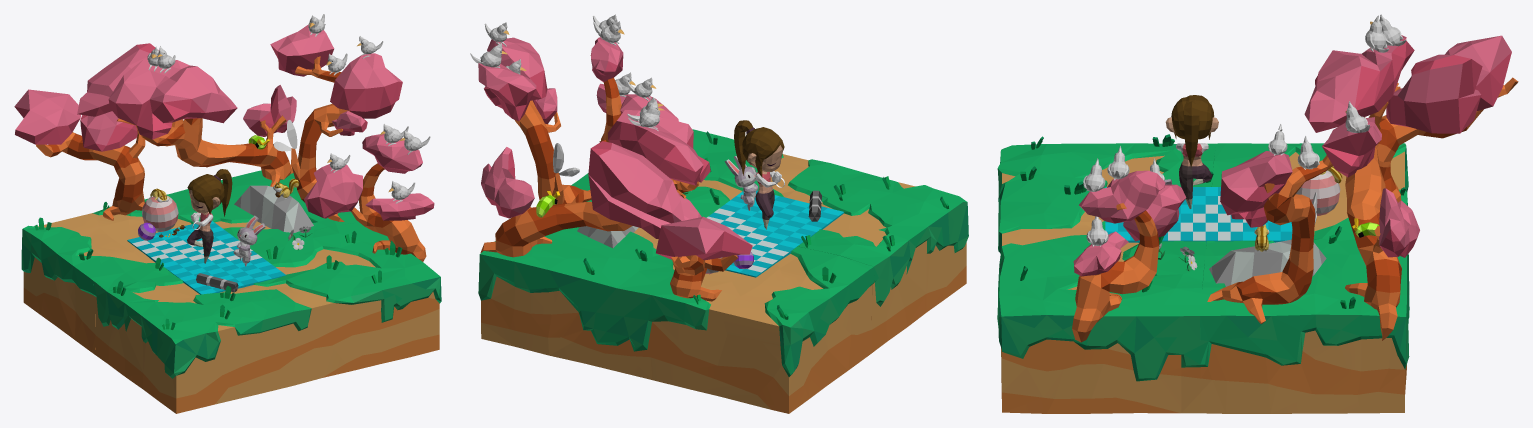
File: 0015_yogaForest.fbx
The picture shows the model from 3 angles, left to right: view 1: azimuth 30°, elevation 25°; view 2: azimuth 150°, elevation 25°; view 3: azimuth 270°, elevation 25°; orthographic projection. The views are drawn at different scales.
Visible parts, largest first — view 1: Land, land2, Tree02_Leaves02, YogaMat, Tree02, Tree01_Leaves02, Tree03_Leaves01, Tree01, Tree01_Leaves01, Tree03, Tree04, Tree04_Leaves01 (+11 smaller); view 2: land2, Land, Tree01_Leaves02, YogaMat, Tree02_Leaves02, Tree02, Tree01_Leaves01, Tree03, Tree02_Leaves01, Tree03_Leaves02, YogaGirl_Head, Tree01 (+7 smaller); view 3: Land, land2, Tree03, Tree02_Leaves02, Tree01_Leaves02, Tree02, Tree04, YogaMat, Tree03_Leaves01, Tree04_Leaves02, Rock, Tree01_Leaves01 (+9 smaller).
Part boxes in pixels (bbox=[...]): Land: bbox=[93, 222, 441, 413]; land2: bbox=[21, 170, 358, 354]; Tree02_Leaves02: bbox=[108, 59, 237, 139]; YogaMat: bbox=[127, 221, 285, 294]; Tree02: bbox=[136, 115, 293, 186]; Tree01_Leaves02: bbox=[77, 43, 158, 151]; Tree03_Leaves01: bbox=[330, 53, 402, 118]; Tree01: bbox=[36, 118, 145, 220]; Tree01_Leaves01: bbox=[14, 89, 80, 144]; Tree03: bbox=[291, 56, 350, 221]; Tree04: bbox=[351, 163, 426, 261]; Tree04_Leaves01: bbox=[304, 164, 362, 218]; land2: bbox=[478, 187, 874, 413]; Land: bbox=[571, 129, 968, 352]; Tree01_Leaves02: bbox=[588, 141, 701, 238]; YogaMat: bbox=[706, 190, 844, 277]; Tree02_Leaves02: bbox=[608, 106, 710, 185]; Tree02: bbox=[480, 140, 699, 257]; Tree01_Leaves01: bbox=[656, 216, 752, 260]; Tree03: bbox=[515, 100, 591, 204]; Tree02_Leaves01: bbox=[481, 147, 534, 218]; Tree03_Leaves02: bbox=[478, 63, 536, 121]; YogaGirl_Head: bbox=[734, 120, 784, 177]; Tree01: bbox=[670, 181, 737, 301]; Land: bbox=[997, 143, 1215, 413]; land2: bbox=[1200, 143, 1409, 413]; Tree03: bbox=[1207, 155, 1332, 323]; Tree02_Leaves02: bbox=[1304, 35, 1414, 132]; Tree01_Leaves02: bbox=[1386, 54, 1482, 133]; Tree02: bbox=[1345, 117, 1401, 340]; Tree04: bbox=[1072, 203, 1159, 342]; YogaMat: bbox=[1105, 187, 1292, 243]; Tree03_Leaves01: bbox=[1220, 151, 1292, 215]; Tree04_Leaves02: bbox=[1079, 170, 1165, 223]; Rock: bbox=[1209, 239, 1326, 286]; Tree01_Leaves01: bbox=[1445, 35, 1511, 110].
Bounding box in the file's own units: 11.15 × 8.03 × 11.96.
